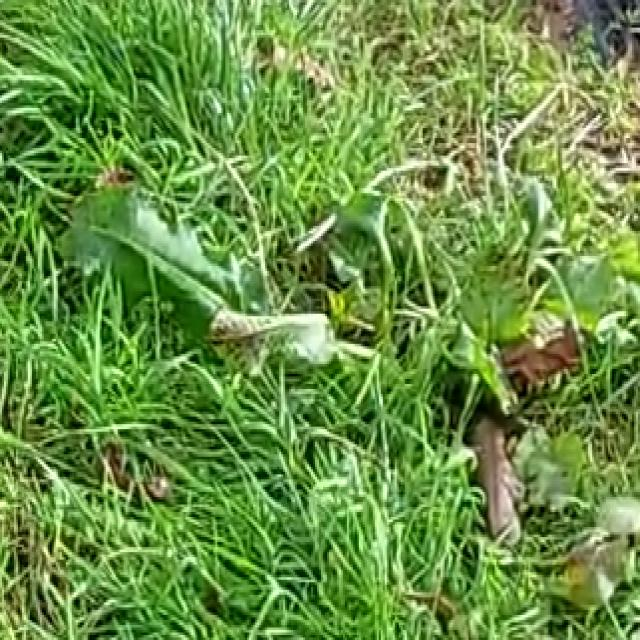organic waste: (54, 113, 520, 409)
